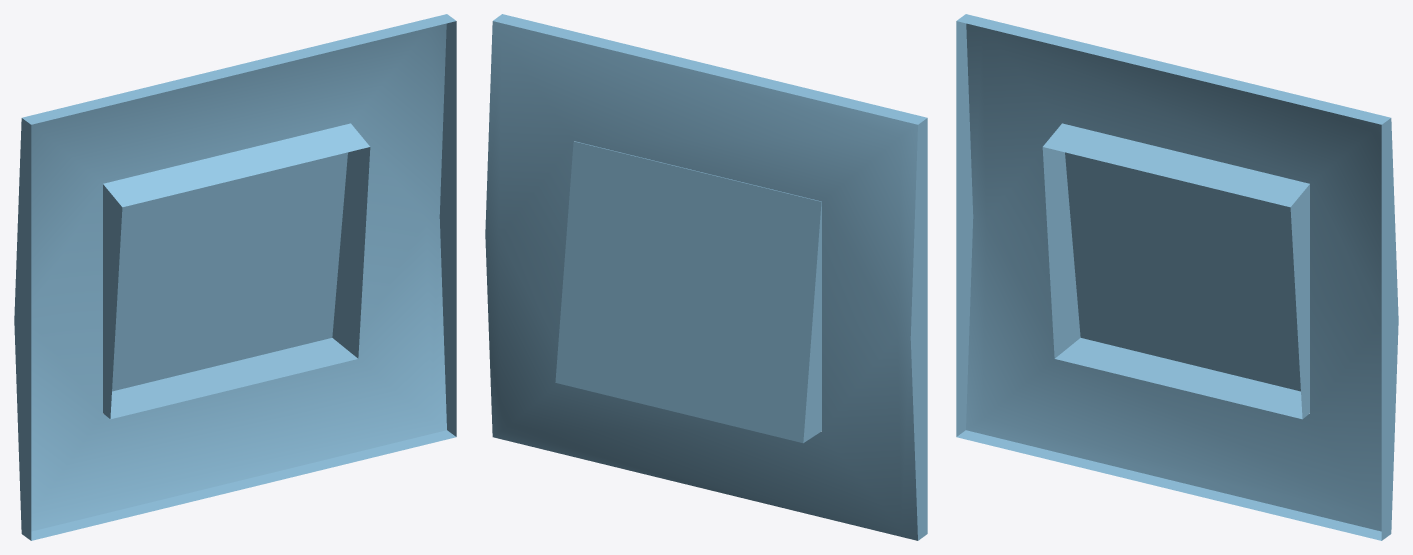
File: Prop_switch.FBX
The picture shows the model from 3 angles, left to right: view 1: azimuth 30°, elevation 25°; view 2: azimuth 150°, elevation 25°; view 3: azimuth 330°, elevation 25°; orthographic projection.
Visible parts, largest first — view 1: Prop_Switch, Prop_switch; view 2: Prop_Switch, Prop_switch; view 3: Prop_Switch, Prop_switch.
Boxes of the visible parts, box(x1,y1,x2,y2) form: Prop_Switch: box(14, 14, 456, 540); Prop_switch: box(103, 123, 370, 419); Prop_Switch: box(485, 14, 927, 540); Prop_switch: box(555, 141, 821, 443); Prop_Switch: box(956, 14, 1398, 540); Prop_switch: box(1042, 123, 1309, 419).
Bounding box in the file's own units: 5.51 × 0.8516 × 5.15.
